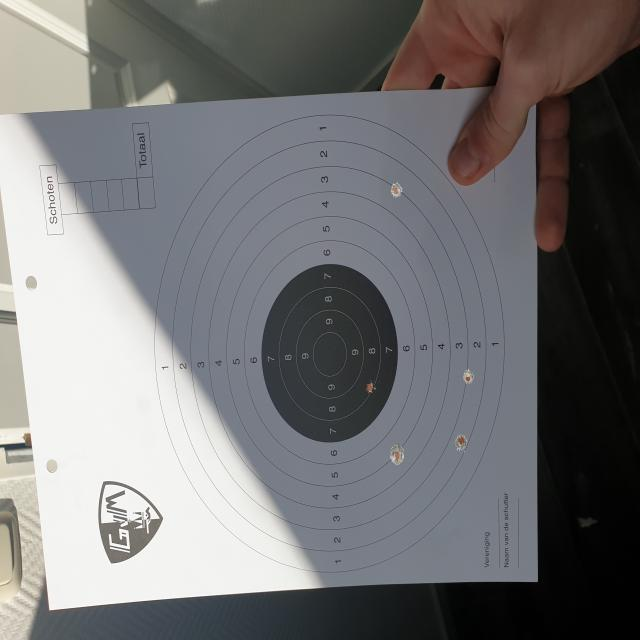2: (455, 434, 467, 452)
3: (391, 182, 402, 198), (463, 369, 474, 384)
5: (390, 444, 405, 466)
8: (365, 380, 377, 394)
Target: (154, 112, 505, 575)
black_contour: (262, 263, 398, 442)
